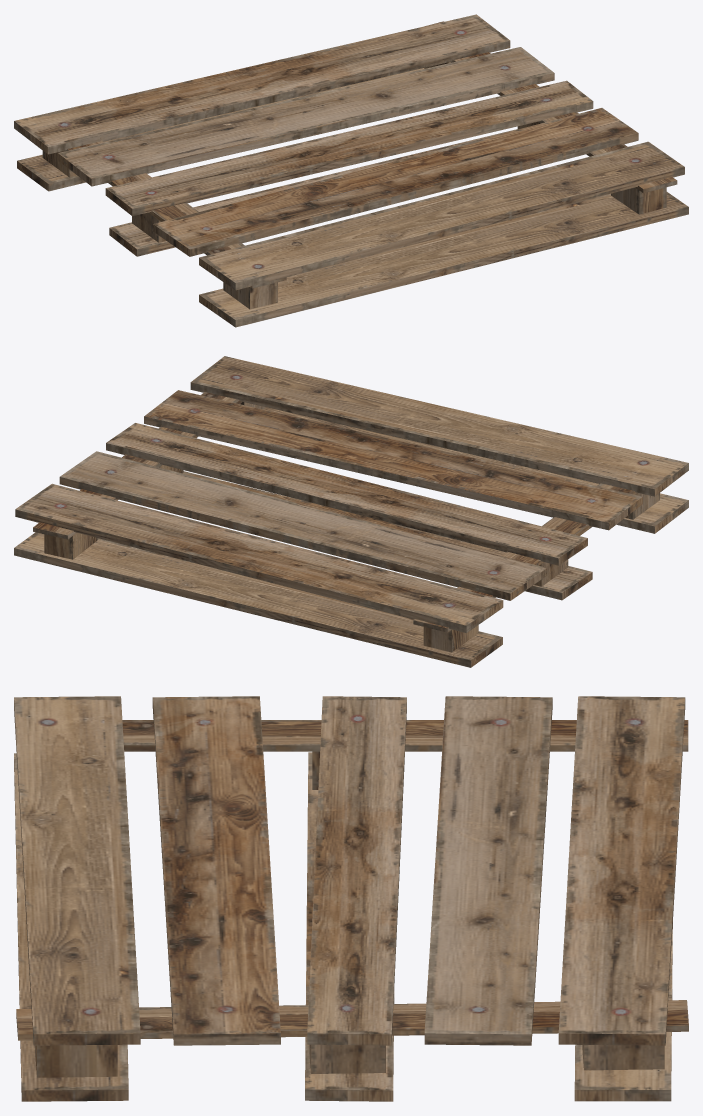
Rendered from MB_Pallet_01.fbx.
The picture shows the model from 3 angles, top to bottom: view 1: azimuth 30°, elevation 25°; view 2: azimuth 150°, elevation 25°; view 3: azimuth 270°, elevation 25°; orthographic projection. The views are drawn at different scales.
Visible parts, largest first — view 1: MB_Pallet_01_LOD0; view 2: MB_Pallet_01_LOD0; view 3: MB_Pallet_01_LOD0.
Part boxes in pixels (left/top/right/bottom): MB_Pallet_01_LOD0: left=14, top=14, right=688, bottom=327; MB_Pallet_01_LOD0: left=14, top=356, right=688, bottom=667; MB_Pallet_01_LOD0: left=14, top=696, right=688, bottom=1101.
Size of what is drawn, in the model's own units: 158 by 14.67 by 133.
